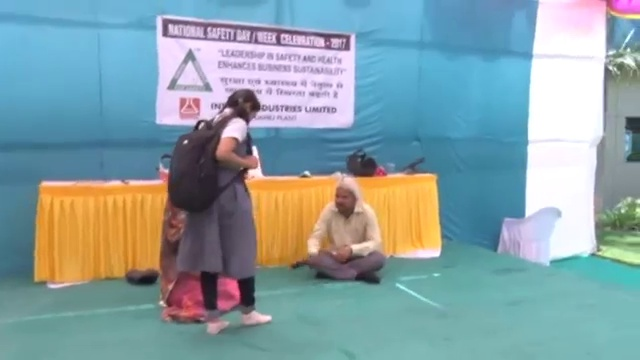helmet_off: (226, 88, 262, 124), (334, 180, 358, 215)
person: (168, 87, 273, 331), (306, 177, 385, 285)
